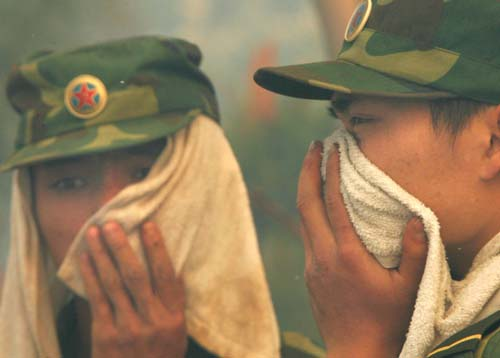face: (31, 130, 198, 299), (321, 91, 483, 257)
